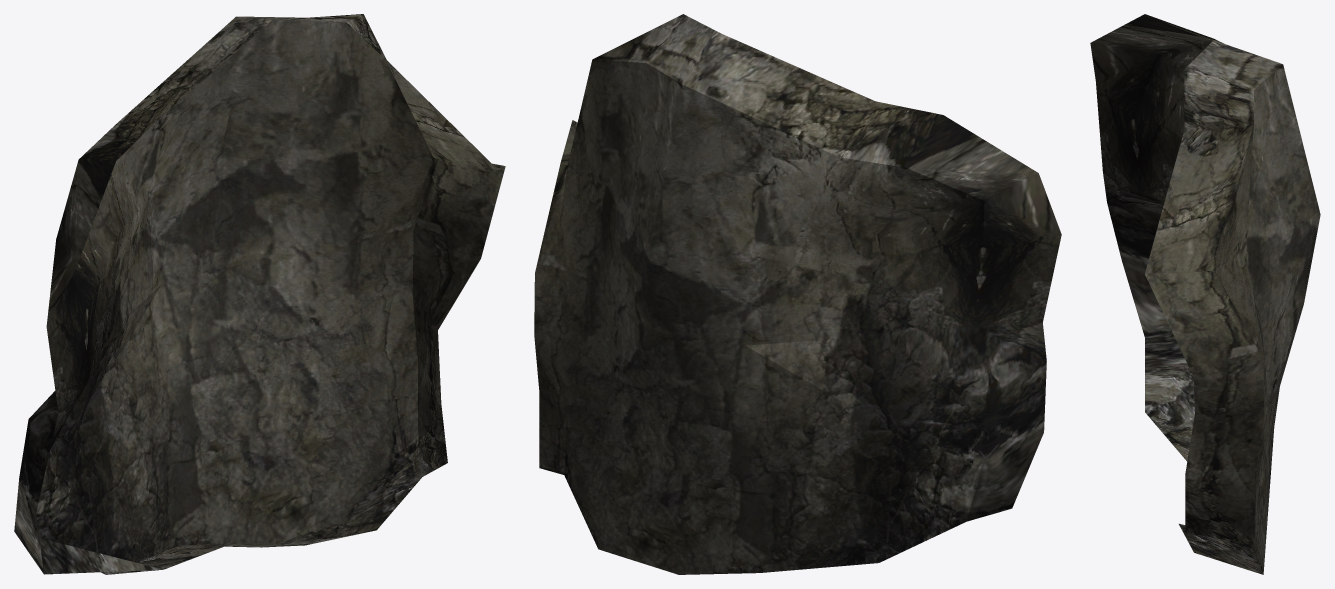
Rendered from Rock_D.FBX.
3 renders of one model, left to right at view 1: azimuth 30°, elevation 25°; view 2: azimuth 150°, elevation 25°; view 3: azimuth 270°, elevation 25°, orthographic. The views are drawn at different scales.
Visible parts, largest first — view 1: Rock_D; view 2: Rock_D; view 3: Rock_D.
Boxes of the visible parts, x1,y1,x2,y2 form: Rock_D: [14, 14, 505, 574]; Rock_D: [534, 14, 1061, 574]; Rock_D: [1090, 14, 1320, 574].
Bounding box in the file's own units: 5.57 × 6.01 × 2.53.
